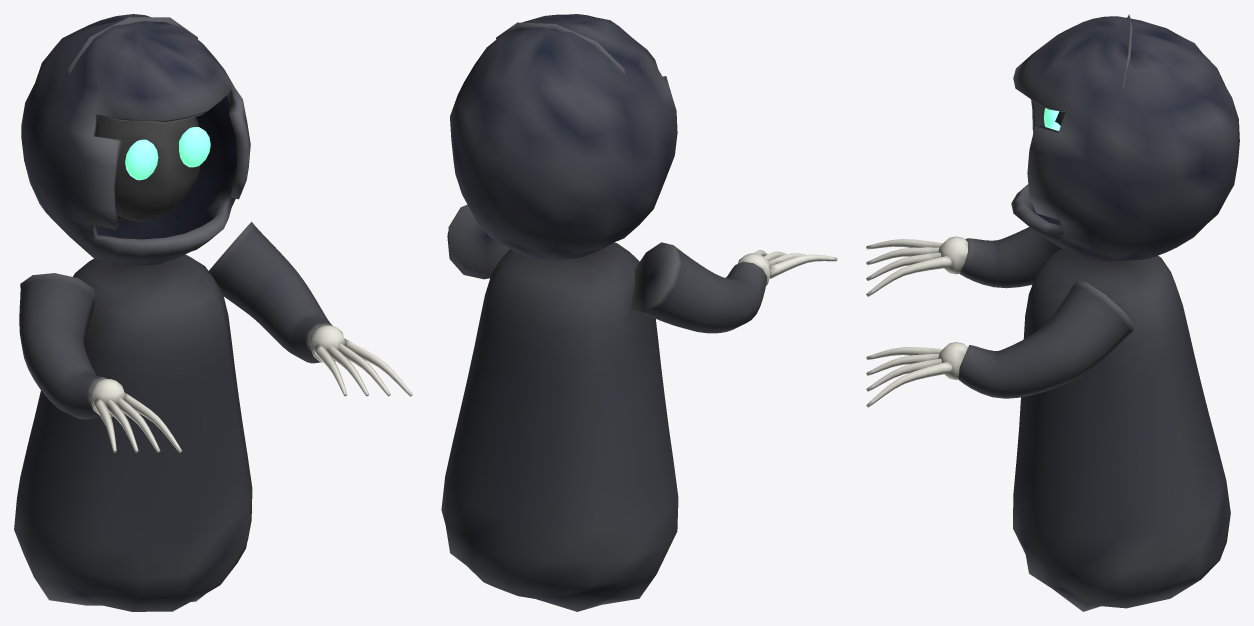
3 renders of one model, left to right at view 1: azimuth 30°, elevation 25°; view 2: azimuth 150°, elevation 25°; view 3: azimuth 270°, elevation 25°, orthographic.
Parts seen in each view (by area): view 1: torso, armR, armL; view 2: torso, armR, armL; view 3: torso, armL, armR.
Part boxes in pixels (x1,y1,x2,y2): torso: (14,14,252,611); armR: (19,273,181,452); armL: (208,222,412,396); torso: (441,14,678,611); armR: (630,242,837,333); armL: (447,204,509,279); torso: (1011,14,1239,611); armL: (866,280,1133,407); armR: (866,227,1061,296).
Bounding box in the file's own units: 0.5716 × 1.05 × 0.6281.
